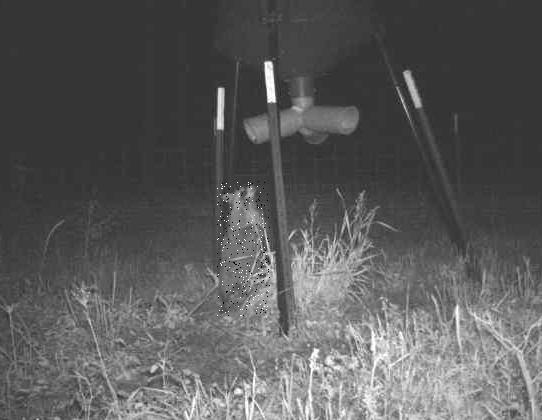Raccoon: (217, 181, 270, 316)
